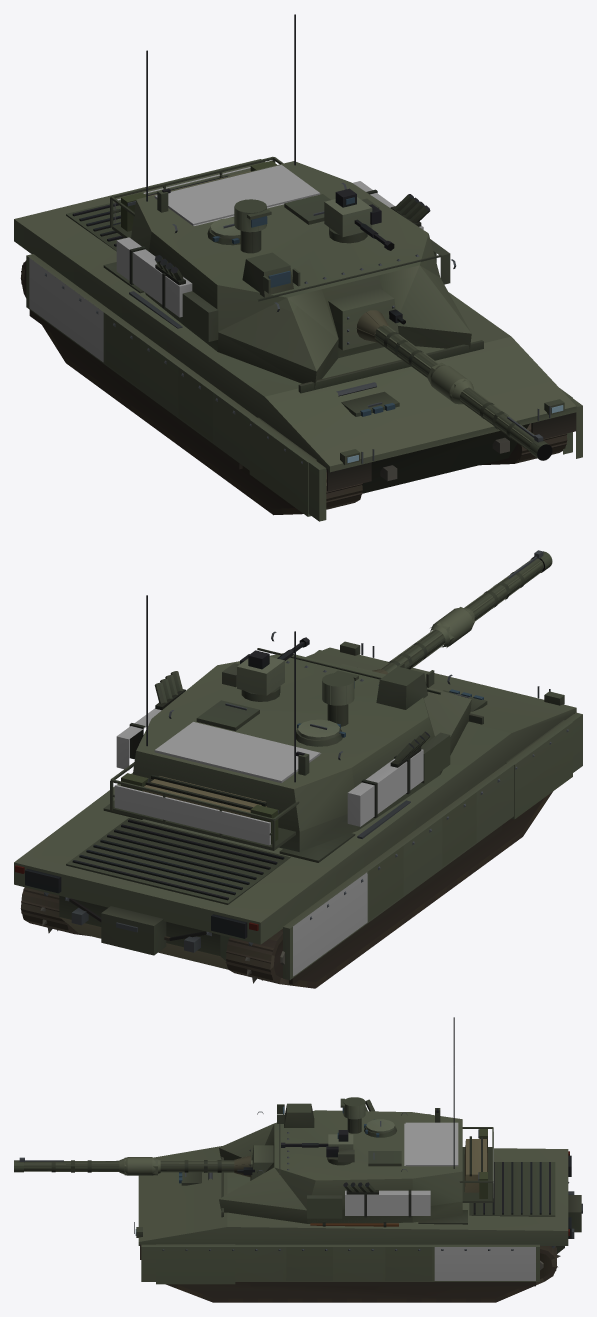
Rendered from tank_modern_mbt.glb.
3 renders of one model, top to bottom at view 1: azimuth 30°, elevation 25°; view 2: azimuth 150°, elevation 25°; view 3: azimuth 270°, elevation 25°, orthographic. The views are drawn at different scales.
Visible parts, largest first — view 1: tank_modern_mbt_LOD1_mesh, tank_modern_mbt_LOD1_turret_mesh, tank_modern_mbt_LOD0_turret_mesh, tank_modern_mbt_LOD0_mesh, tank_modern_mbt_LOD2_mesh, tank_modern_mbt_LOD0_gun_mesh, tank_modern_mbt_LOD2_gun_mesh; view 2: tank_modern_mbt_LOD1_mesh, tank_modern_mbt_LOD1_turret_mesh, tank_modern_mbt_LOD0_turret_mesh, tank_modern_mbt_LOD0_mesh, tank_modern_mbt_LOD2_mesh, tank_modern_mbt_LOD0_gun_mesh, tank_modern_mbt_LOD2_gun_mesh; view 3: tank_modern_mbt_LOD1_mesh, tank_modern_mbt_LOD0_mesh, tank_modern_mbt_LOD0_turret_mesh, tank_modern_mbt_LOD1_turret_mesh, tank_modern_mbt_LOD2_mesh, tank_modern_mbt_LOD0_gun_mesh, tank_modern_mbt_LOD2_gun_mesh, tank_modern_mbt_LOD1_gun_mesh.
Part boxes in pixels (<box>): tank_modern_mbt_LOD1_mesh: <box>14,159,575,503</box>; tank_modern_mbt_LOD1_turret_mesh: <box>112,161,471,388</box>; tank_modern_mbt_LOD0_turret_mesh: <box>110,14,471,382</box>; tank_modern_mbt_LOD0_mesh: <box>20,176,576,516</box>; tank_modern_mbt_LOD2_mesh: <box>21,254,582,521</box>; tank_modern_mbt_LOD0_gun_mesh: <box>328,288,552,460</box>; tank_modern_mbt_LOD2_gun_mesh: <box>342,312,534,451</box>; tank_modern_mbt_LOD1_mesh: <box>14,647,576,974</box>; tank_modern_mbt_LOD1_turret_mesh: <box>112,641,471,850</box>; tank_modern_mbt_LOD0_turret_mesh: <box>110,595,471,852</box>; tank_modern_mbt_LOD0_mesh: <box>15,641,574,988</box>; tank_modern_mbt_LOD2_mesh: <box>14,650,582,982</box>; tank_modern_mbt_LOD0_gun_mesh: <box>340,550,552,676</box>; tank_modern_mbt_LOD2_gun_mesh: <box>379,558,542,672</box>; tank_modern_mbt_LOD1_mesh: <box>138,1146,571,1270</box>; tank_modern_mbt_LOD0_mesh: <box>134,1151,582,1302</box>; tank_modern_mbt_LOD0_turret_mesh: <box>219,1017,493,1223</box>; tank_modern_mbt_LOD1_turret_mesh: <box>219,1097,493,1222</box>; tank_modern_mbt_LOD2_mesh: <box>141,1244,564,1298</box>; tank_modern_mbt_LOD0_gun_mesh: <box>14,1145,273,1179</box>; tank_modern_mbt_LOD2_gun_mesh: <box>24,1155,252,1180</box>; tank_modern_mbt_LOD1_gun_mesh: <box>14,1155,250,1175</box>.
Bounding box in the file's own units: 3.8 × 4.37 × 10.27.
